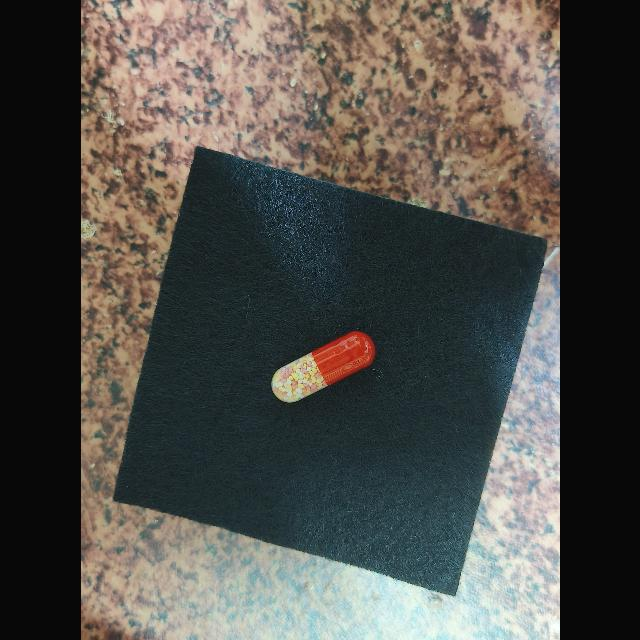Intact Capsule: (271, 331, 375, 402)
